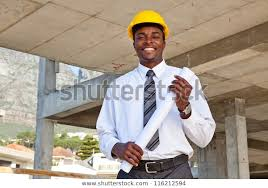Person_wearing_helmet: (123, 6, 172, 45)
